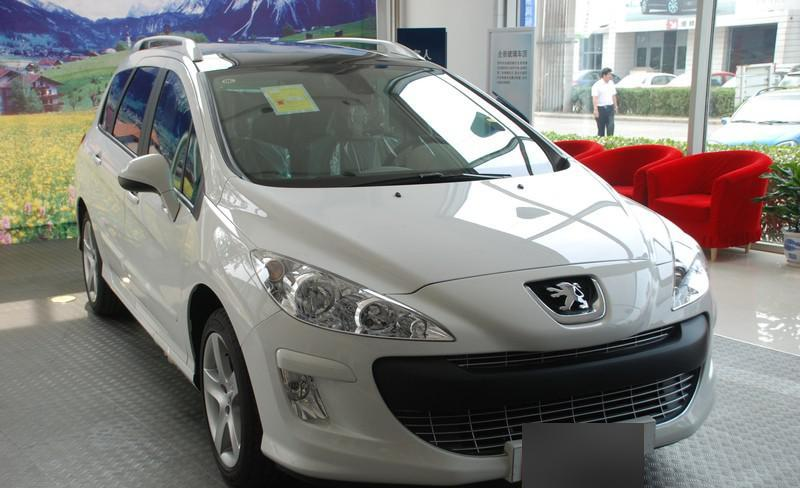Wagon: (73, 33, 718, 488)
